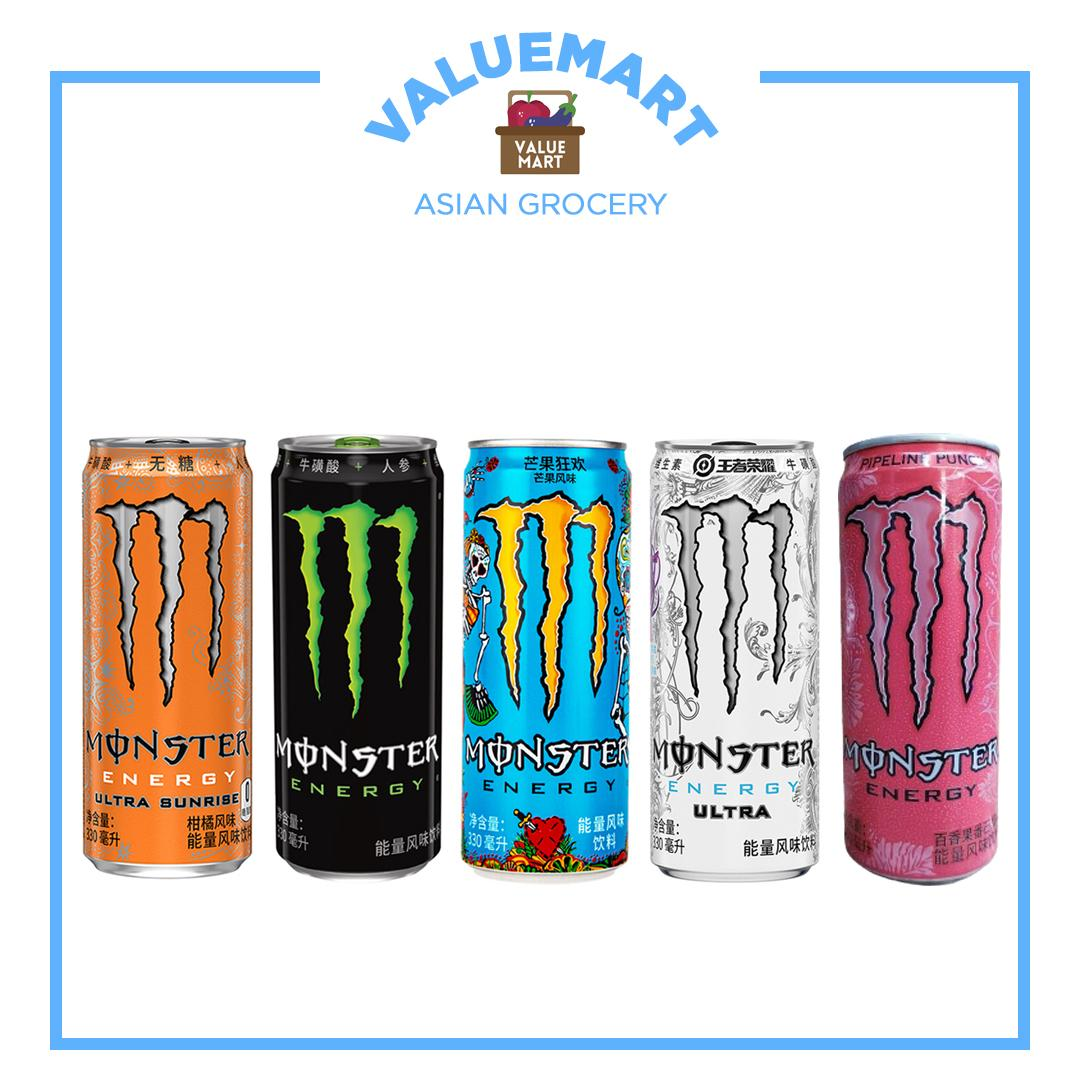can: (272, 435, 442, 870), (650, 440, 818, 880), (83, 437, 251, 875), (462, 440, 630, 873), (839, 436, 1001, 883)
